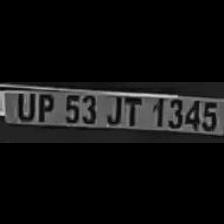1: (146, 94, 164, 126)
3: (78, 90, 98, 124), (164, 94, 182, 128)
4: (182, 95, 198, 127)
5: (58, 90, 80, 122), (198, 96, 218, 130)
J: (102, 92, 124, 124)
P: (33, 89, 55, 121)
T: (122, 94, 144, 126)
U: (11, 90, 35, 120)
